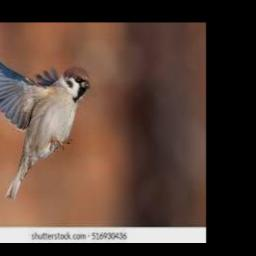Sparrow: (0, 47, 90, 197)
